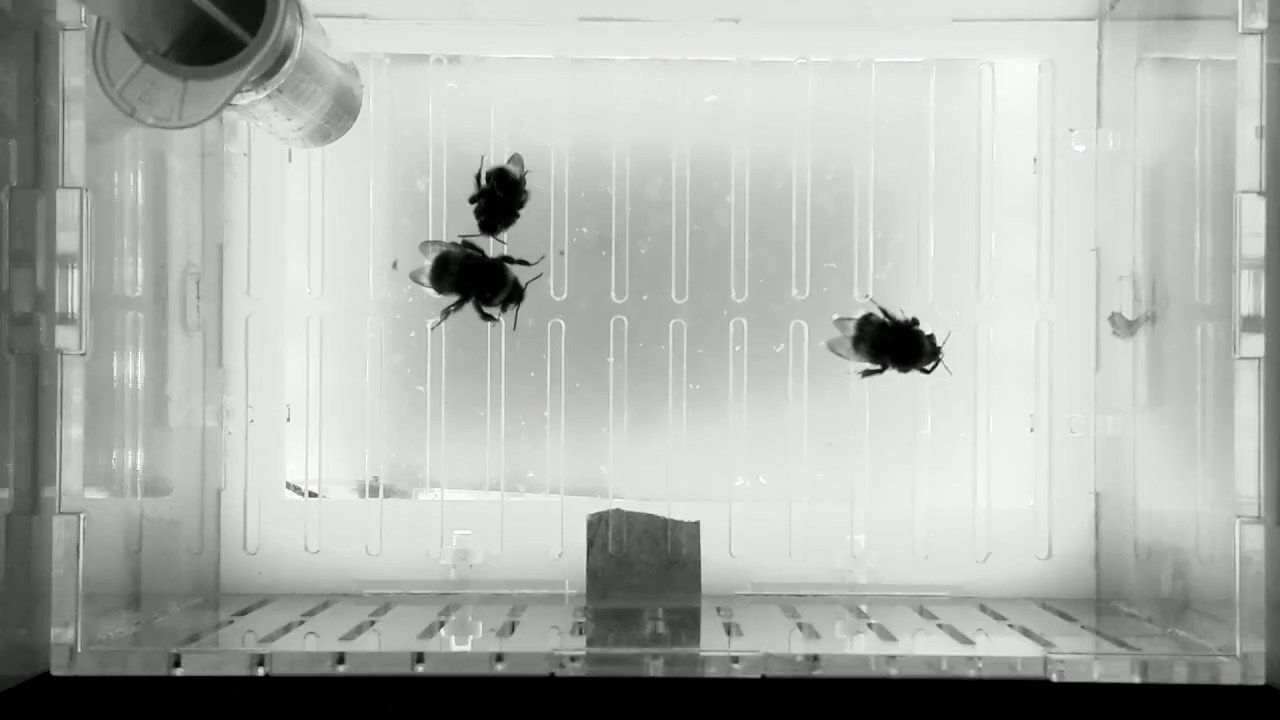bee_alive: (820, 289, 963, 388), (403, 237, 549, 333)
bee_dead: (454, 148, 532, 249)
feeder: (226, 3, 370, 152)
